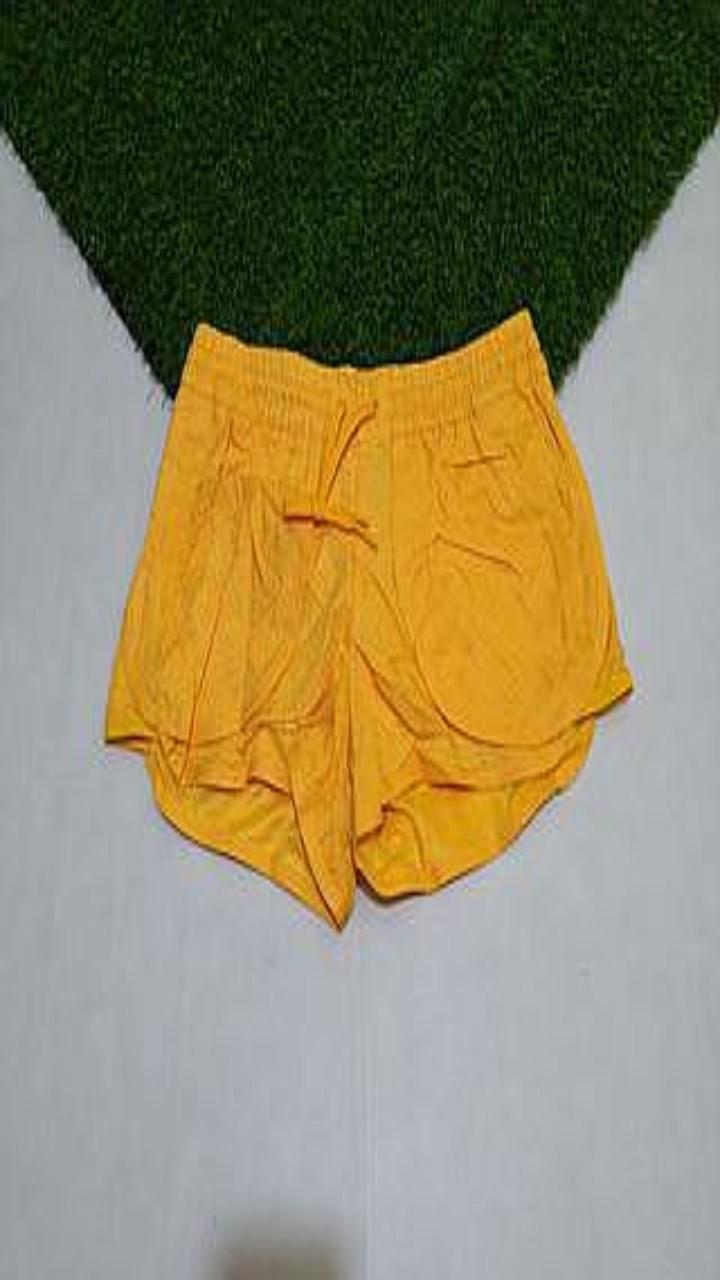Shorts: (106, 308, 631, 927)
